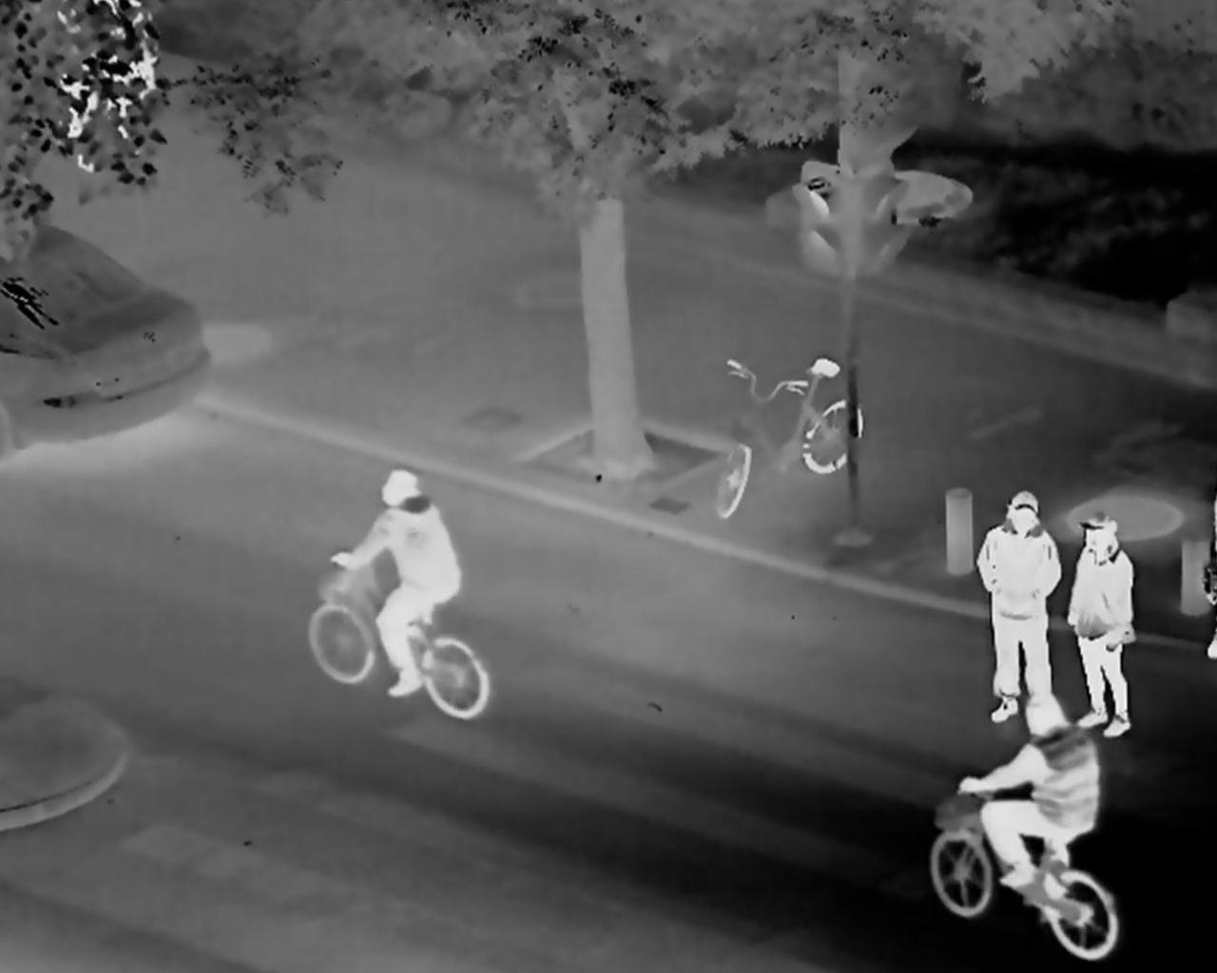person: (330, 468, 458, 697), (968, 701, 1102, 918), (976, 488, 1054, 725), (1066, 514, 1133, 737)
